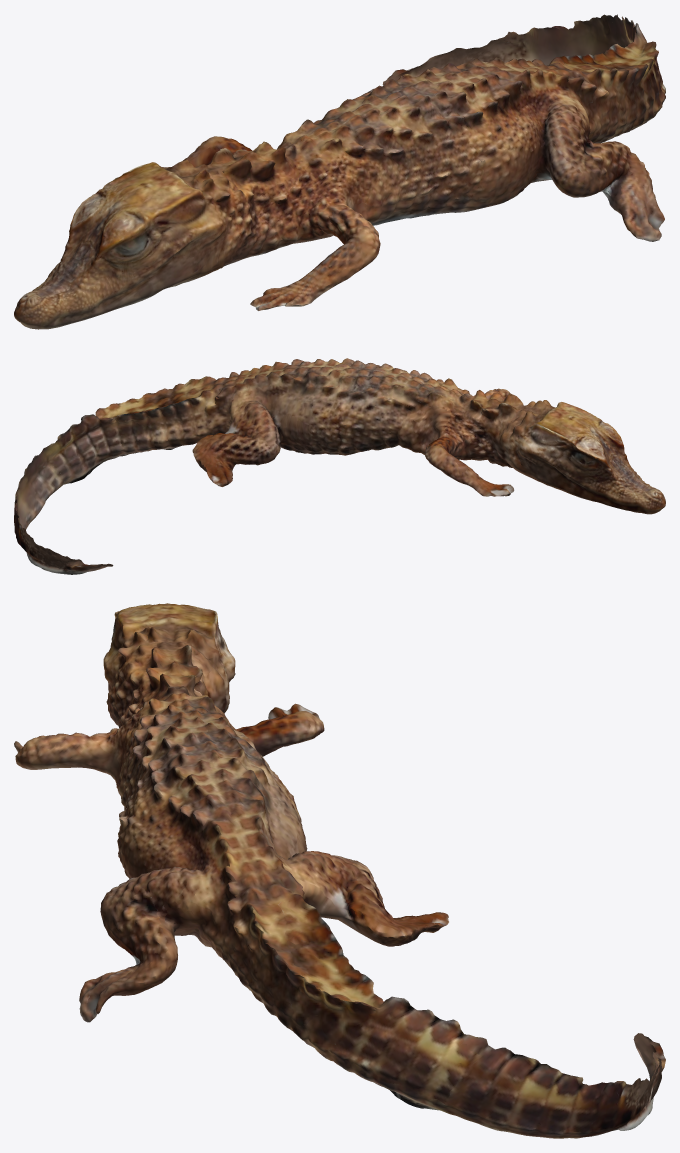
Rendered from nm__spectacledcaiman.glb.
3 renders of one model, top to bottom at view 1: azimuth 30°, elevation 25°; view 2: azimuth 150°, elevation 25°; view 3: azimuth 270°, elevation 25°, orthographic. The views are drawn at different scales.
Parts seen in each view (by area): view 1: Object_4; view 2: Object_4; view 3: Object_4.
Boxes of the visible parts, x1=… form: Object_4: x1=14, y1=14, x2=665, y2=329; Object_4: x1=14, y1=358, x2=665, y2=574; Object_4: x1=14, y1=603, x2=665, y2=1138.
Bounding box in the file's own units: 1.11 × 0.2917 × 0.744.
Materials: 1 (1 with a texture image).
